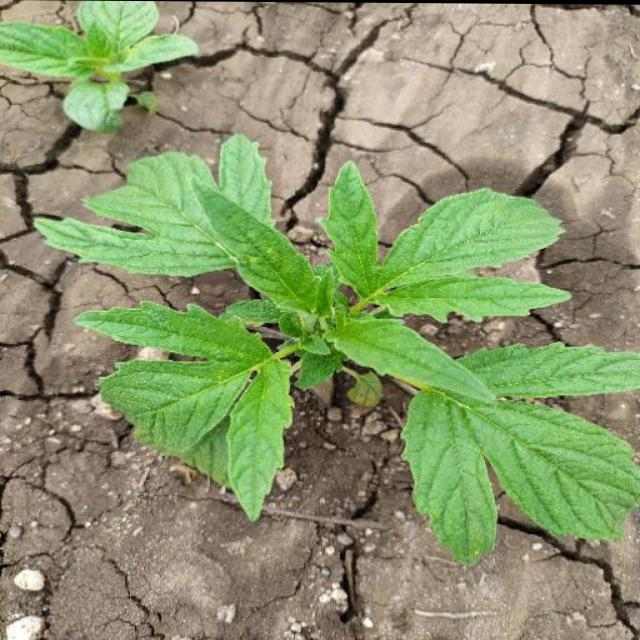crop: (21, 131, 640, 549), (1, 2, 209, 131)
